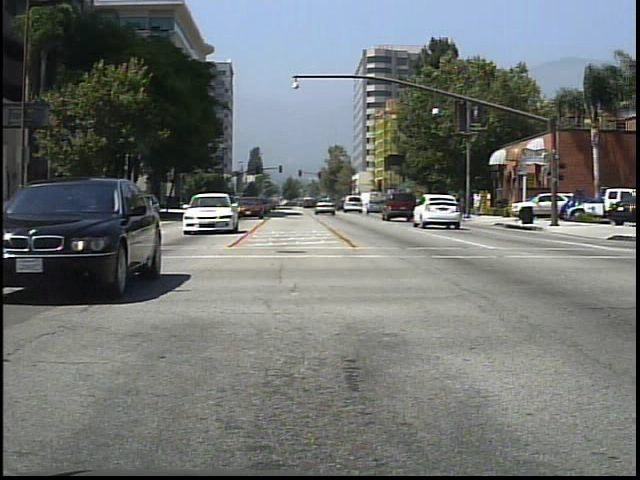person: (436, 191, 452, 222), (473, 191, 485, 219)
